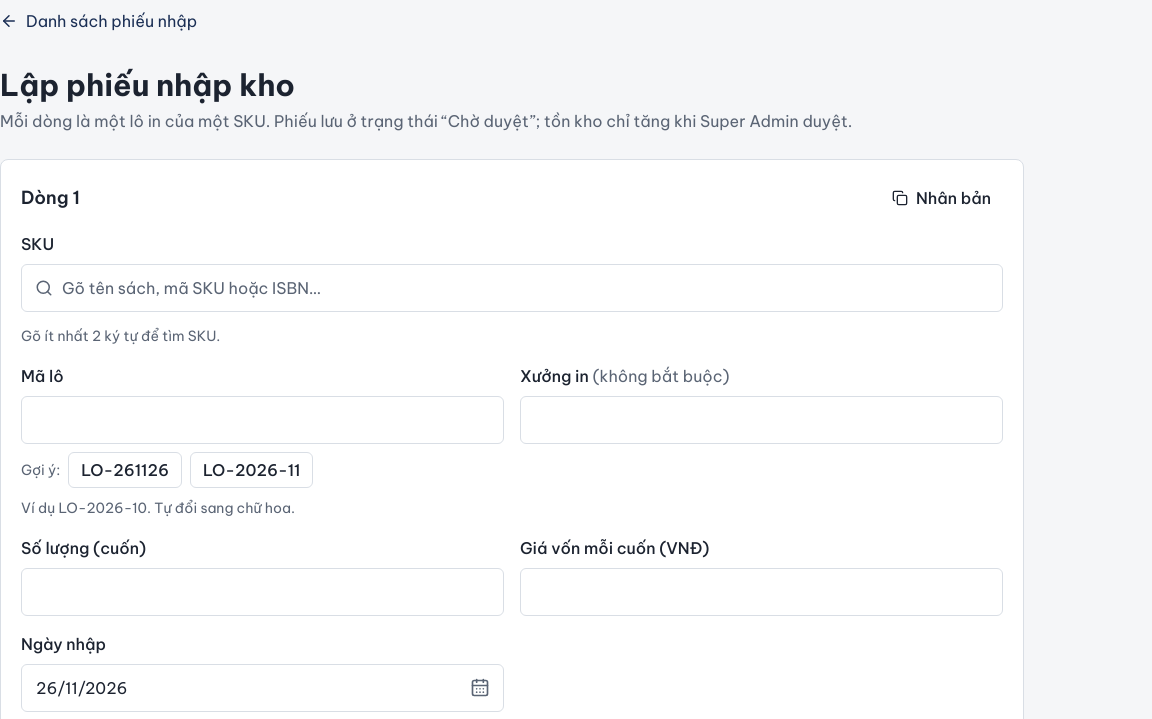
Scenario: ReceiptCreate › nhân bản dòng giữ SKU, xưởng in, giá vốn nhưng để trống mã lô và số lượng
Type "SLVN-BLDS-BC" into the search field labelled "SKU".
click(512, 288); type("SLVN-BLDS-BC")  # box [21, 264, 1003, 312]
Then press Enter
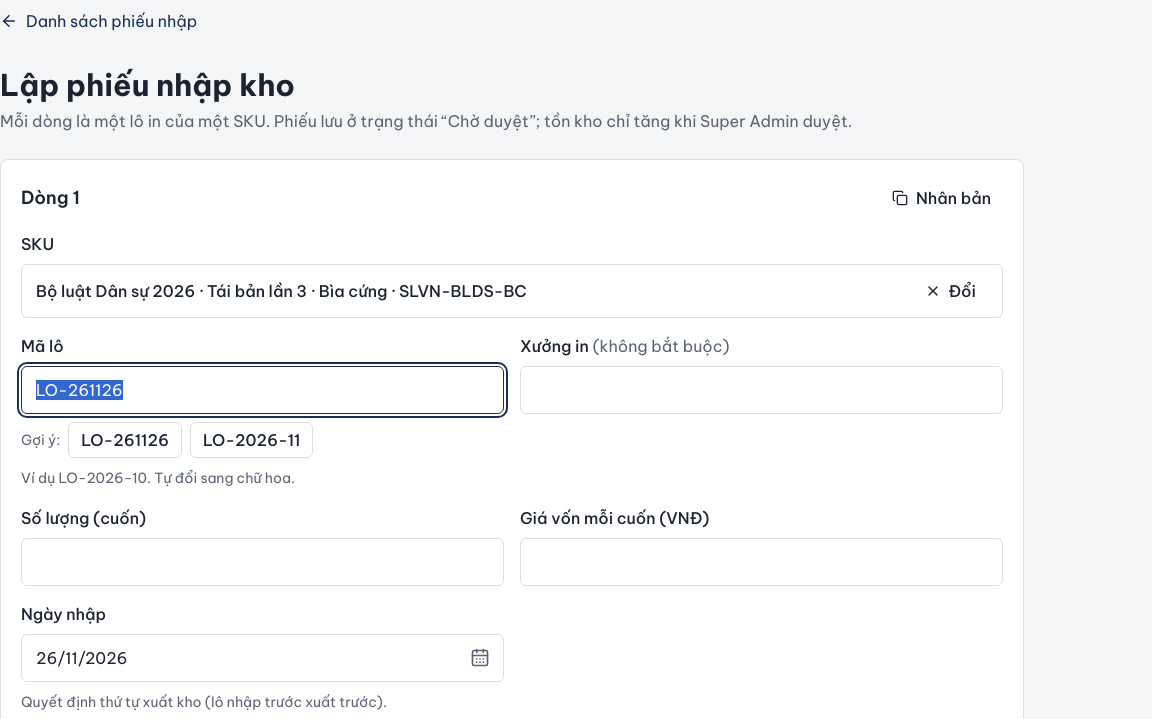
Expected: the text "Bộ luật Dân sự 2026 · Tái bản lần 3 · Bìa cứng · SLVN-BLDS-BC" is shown, [36, 279, 527, 303]
Type "45000" into the field labelled "Giá vốn mỗi cuốn (VNĐ)".
click(762, 562); type("45000")  # box [520, 538, 1003, 586]
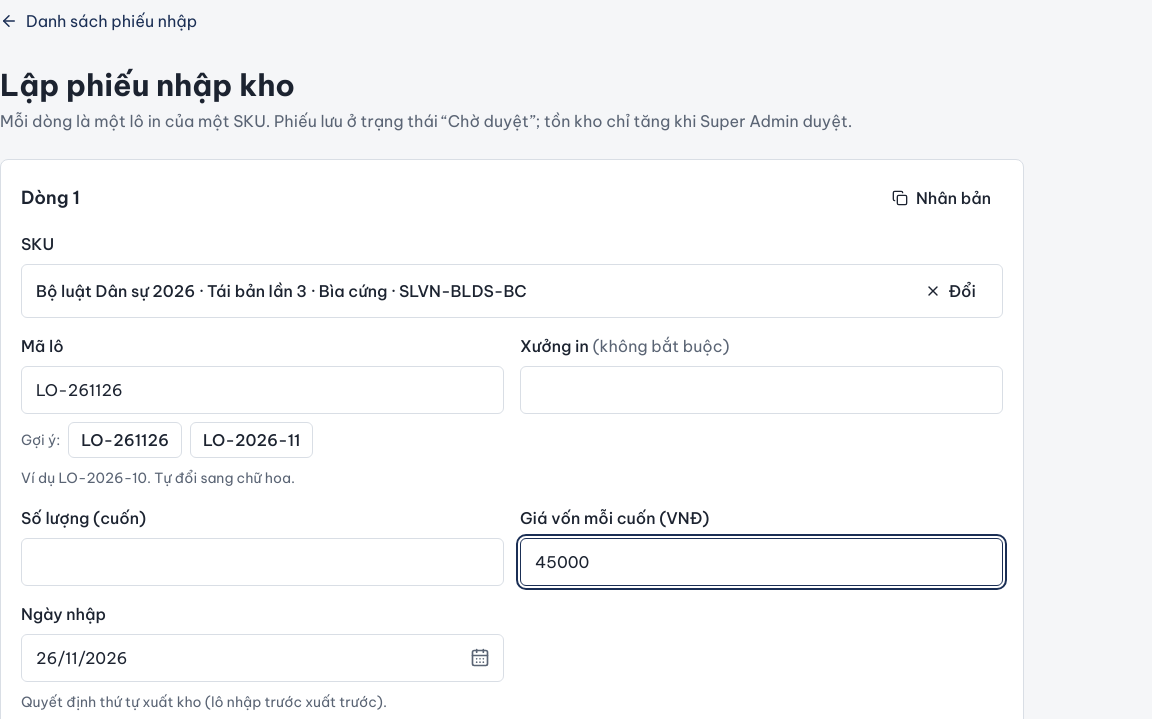
Type "500" into the field labelled "Số lượng (cuốn)".
click(262, 562); type("500")  # box [21, 538, 504, 586]
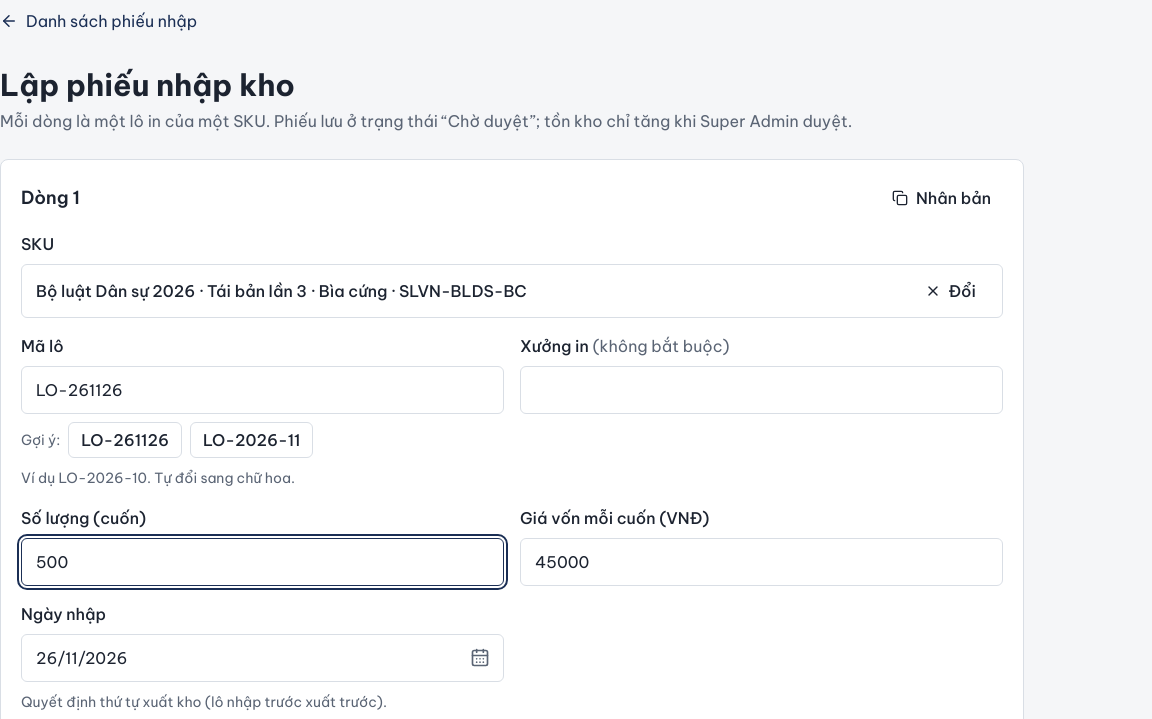
Click the button with aria-label "Nhân bản dòng 1".
click(942, 198)  # box [880, 180, 1003, 216]
(page scrolled)
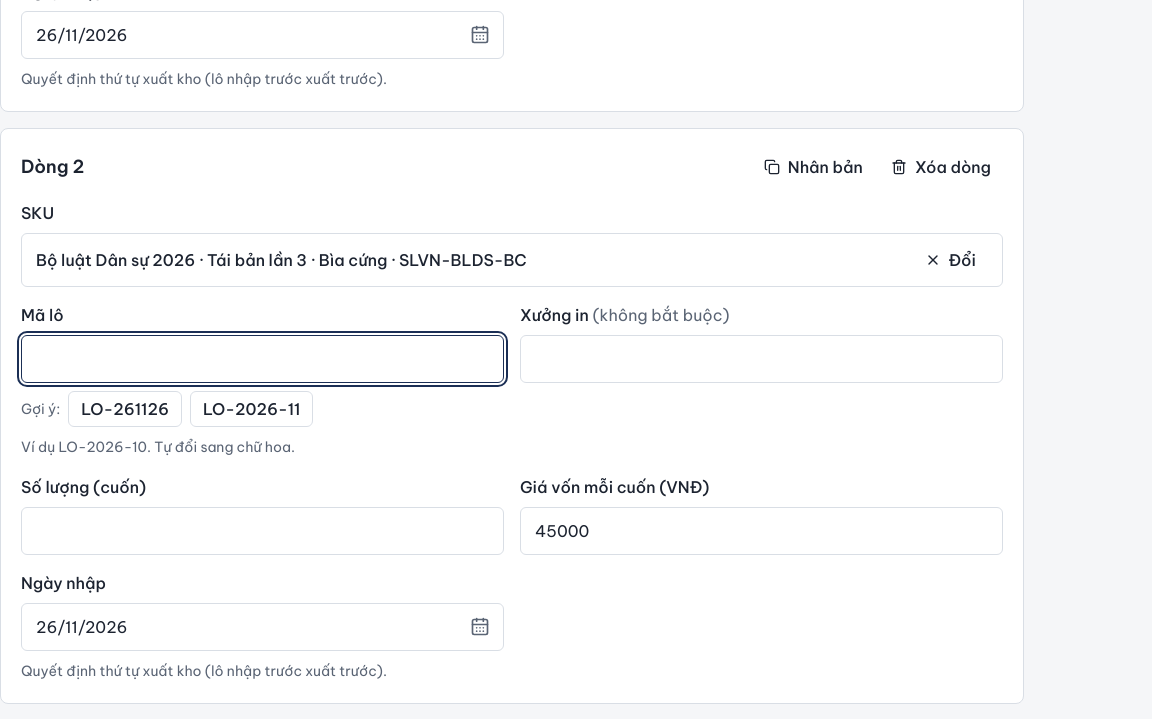
Expected: the heading "Dòng 2" is shown, [21, 153, 84, 181]
Expected: the text "Bộ luật Dân sự 2026 · Tái bản lần 3 · Bìa cứng · SLVN-BLDS-BC" is shown 2 times
Expected: the field labelled "Mã lô" is empty, [21, 335, 504, 383]
